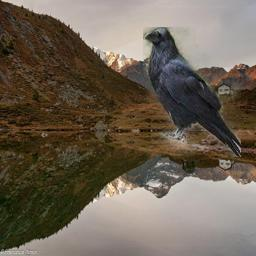Crow: (143, 27, 241, 157)
